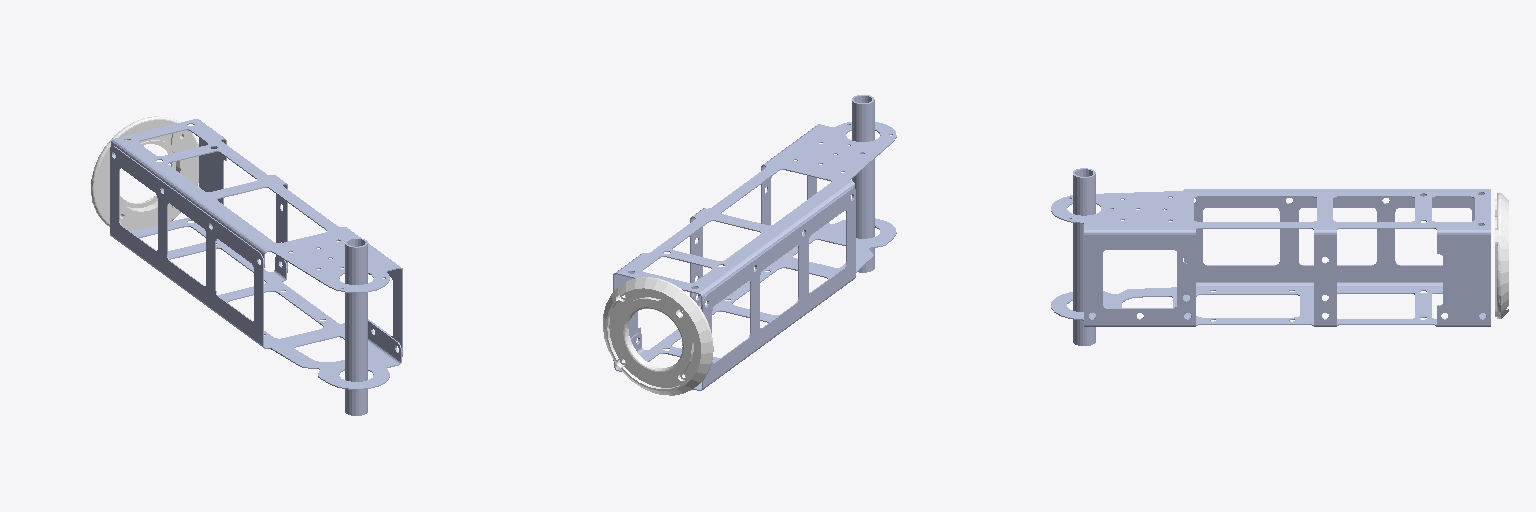
The model's file is UnterarmL_A.obj.
The picture shows the model from 3 angles: view 1: azimuth 30°, elevation 25°; view 2: azimuth 150°, elevation 25°; view 3: azimuth 270°, elevation 25°; orthographic projection.
Parts seen in each view (by area): view 1: Stamm|Minimal-UnterarmL_(Standard)|Unterarm_links-1|L_Arm_Untera, Stamm|Minimal-UnterarmL_(Standard)|Unterarm_links-1|Arm_Handgele, Stamm|Minimal-UnterarmL_(Standard)|Unterarm_links-1|Arm_Achse-1|; view 2: Stamm|Minimal-UnterarmL_(Standard)|Unterarm_links-1|L_Arm_Untera, Stamm|Minimal-UnterarmL_(Standard)|Unterarm_links-1|Arm_Handgele, Stamm|Minimal-UnterarmL_(Standard)|Unterarm_links-1|Arm_Achse-1|; view 3: Stamm|Minimal-UnterarmL_(Standard)|Unterarm_links-1|L_Arm_Untera, Stamm|Minimal-UnterarmL_(Standard)|Unterarm_links-1|Arm_Achse-1|, Stamm|Minimal-UnterarmL_(Standard)|Unterarm_links-1|Arm_Handgele.
Part boxes in pixels (x1,y1,x2,y2): Stamm|Minimal-UnterarmL_(Standard)|Unterarm_links-1|L_Arm_Untera: (110, 119, 402, 389); Stamm|Minimal-UnterarmL_(Standard)|Unterarm_links-1|Arm_Handgele: (91, 116, 198, 230); Stamm|Minimal-UnterarmL_(Standard)|Unterarm_links-1|Arm_Achse-1|: (345, 238, 367, 415); Stamm|Minimal-UnterarmL_(Standard)|Unterarm_links-1|L_Arm_Untera: (613, 122, 896, 390); Stamm|Minimal-UnterarmL_(Standard)|Unterarm_links-1|Arm_Handgele: (603, 277, 713, 395); Stamm|Minimal-UnterarmL_(Standard)|Unterarm_links-1|Arm_Achse-1|: (852, 95, 874, 272); Stamm|Minimal-UnterarmL_(Standard)|Unterarm_links-1|L_Arm_Untera: (1051, 189, 1490, 326); Stamm|Minimal-UnterarmL_(Standard)|Unterarm_links-1|Arm_Achse-1|: (1073, 168, 1095, 345); Stamm|Minimal-UnterarmL_(Standard)|Unterarm_links-1|Arm_Handgele: (1495, 193, 1508, 318).
Bounding box in the file's own units: 0.0545 × 0.08 × 0.197.